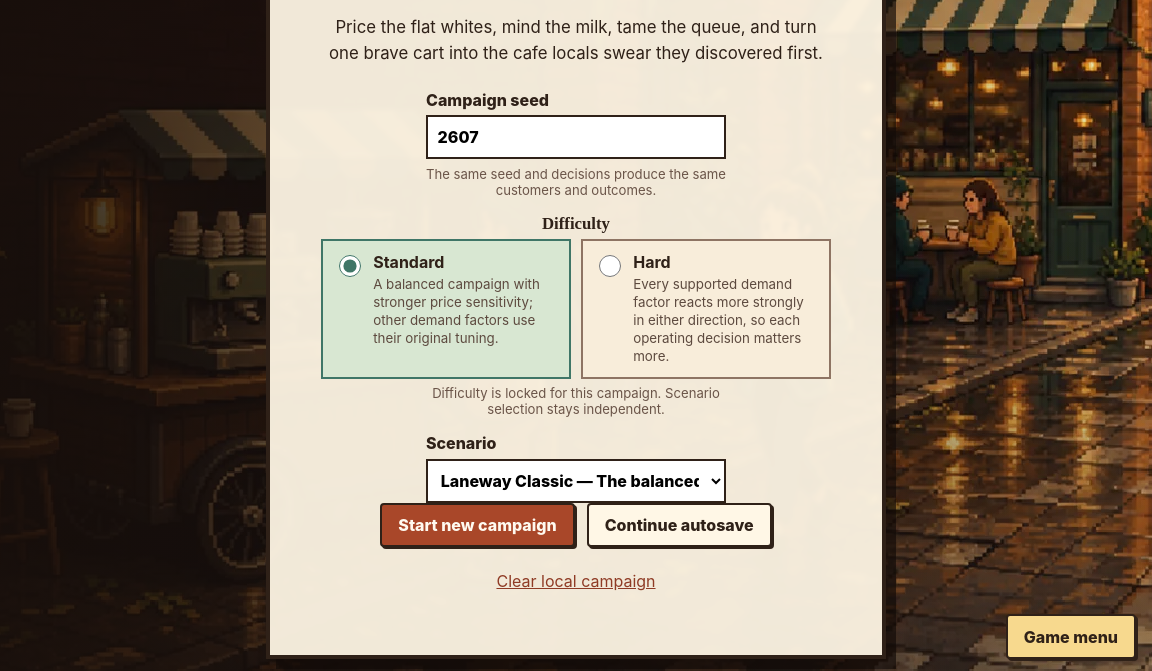
Test: snapshot presentation and audio consent › routes cart service exclusively through its complete WebGL world
This screenshot has width=1152, height=671.
(page scrolled)
Click the button "Continue autosave" at x=679, y=525, box [587,503,772,548]
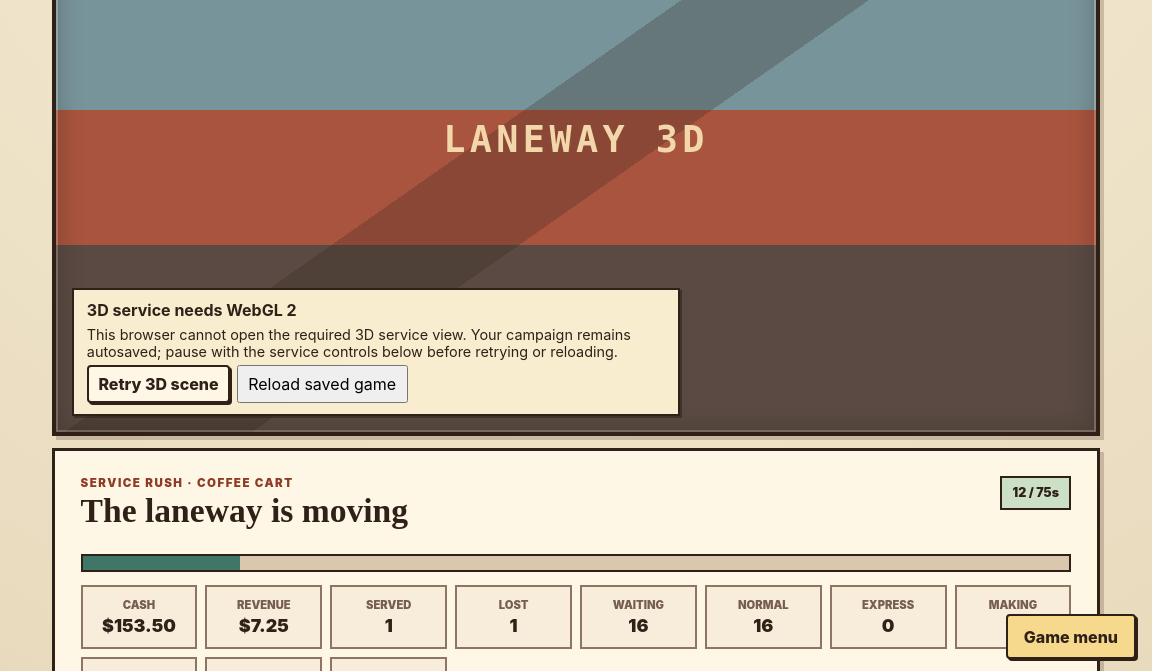
expect the message shows "3D service needs WebGL 2": met, box [87,300,297,320]
